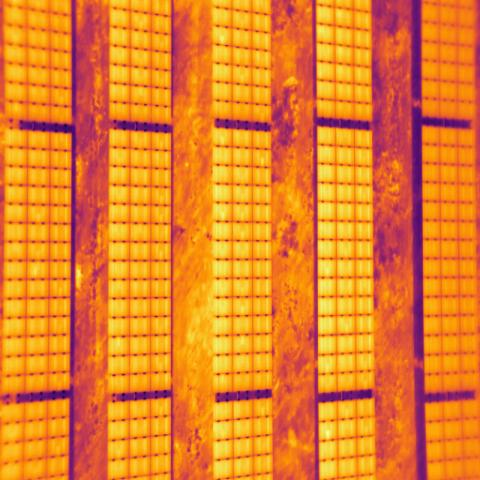fault: (212, 26, 234, 47), (319, 420, 338, 444)
